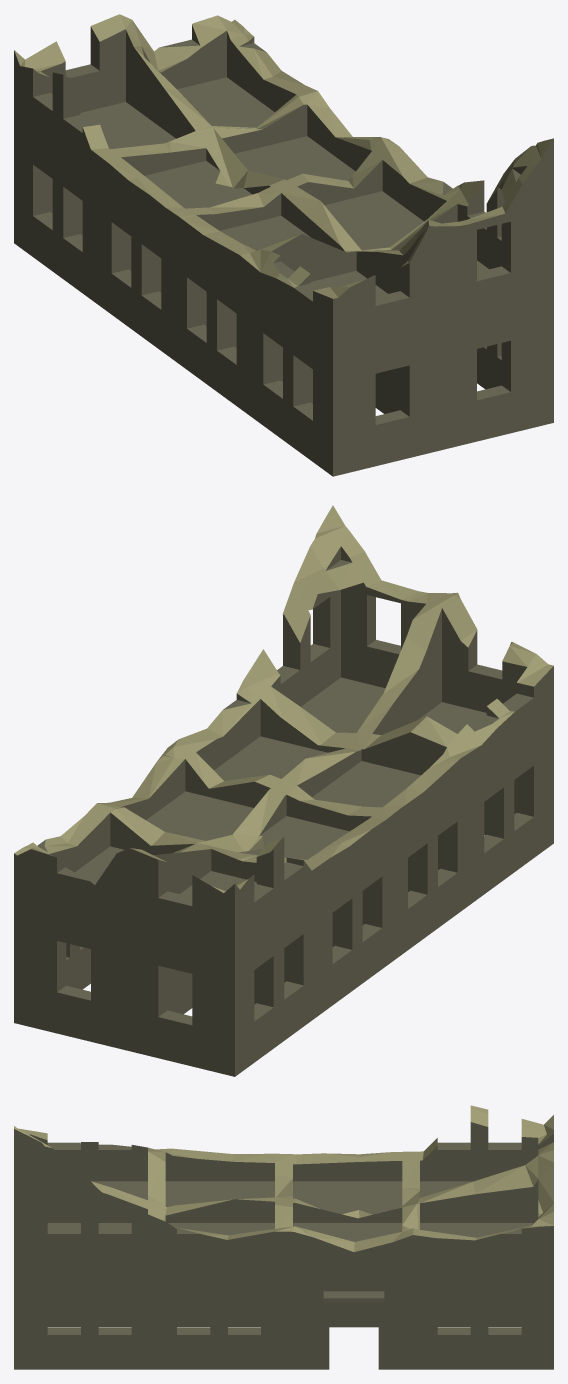
The model's file is Buildings 3.fbx.
3 renders of one model, top to bottom at view 1: azimuth 30°, elevation 25°; view 2: azimuth 150°, elevation 25°; view 3: azimuth 270°, elevation 25°, orthographic. The views are drawn at different scales.
Parts seen in each view (by area): view 1: Buildings 3; view 2: Buildings 3; view 3: Buildings 3.
Boxes of the visible parts, left/top/right/bottom form: Buildings 3: left=14, top=14, right=553, bottom=476; Buildings 3: left=14, top=505, right=553, bottom=1076; Buildings 3: left=14, top=1105, right=553, bottom=1369.
Size of the model in its own units: 525 by 600 by 1219.
